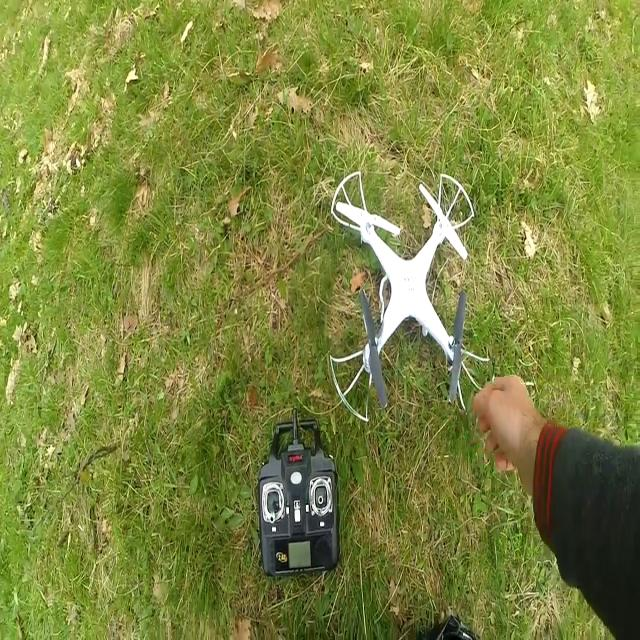drones: (319, 166, 489, 427)
